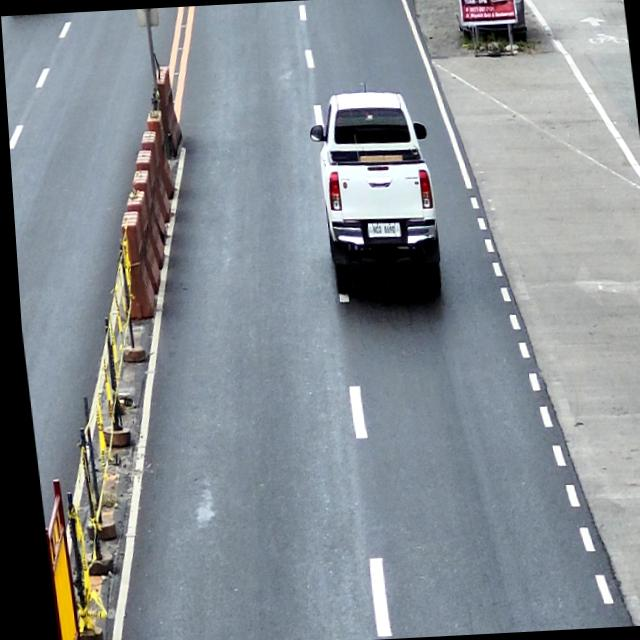Car: (305, 88, 444, 307)
License-Plate: (368, 222, 394, 238)
